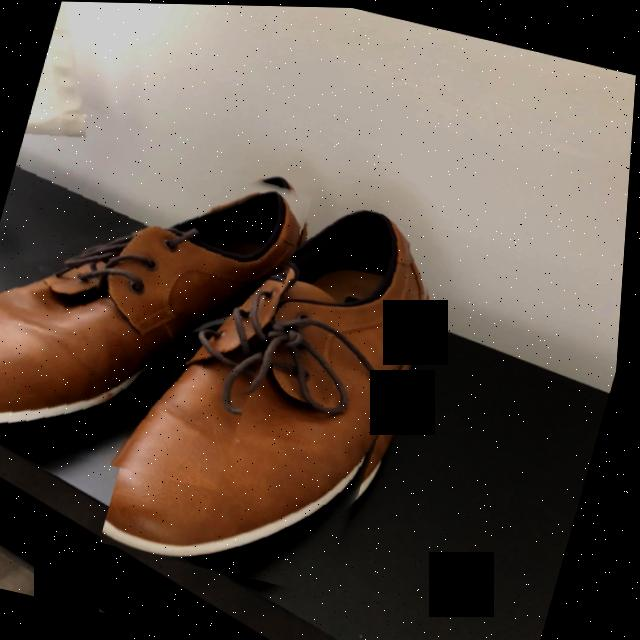shoe: (110, 210, 428, 560), (0, 182, 299, 431)
